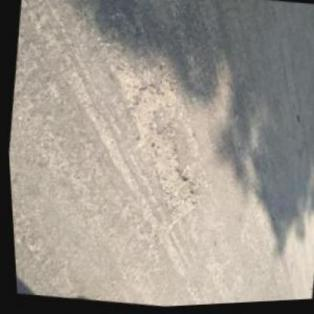Hueco: (94, 59, 215, 228)
